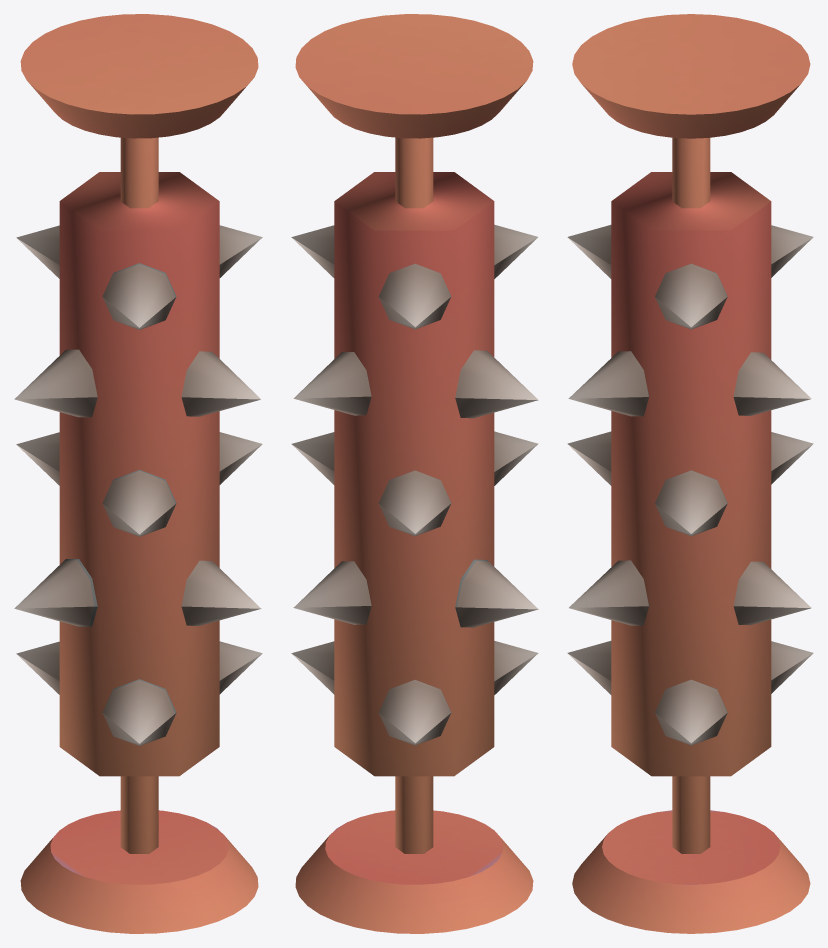
The model's file is spikyLog.fbx.
The picture shows the model from 3 angles, left to right: view 1: azimuth 30°, elevation 25°; view 2: azimuth 150°, elevation 25°; view 3: azimuth 270°, elevation 25°; orthographic projection.
Parts seen in each view (by area): view 1: Log, Cylinder, Cylinder.001, Roller; view 2: Log, Cylinder, Cylinder.001, Roller; view 3: Log, Cylinder, Cylinder.001, Roller.
Part boxes in pixels (box(x1,y1,x2,y2)): Log: box(14, 172, 262, 776); Cylinder: box(20, 14, 258, 138); Cylinder.001: box(20, 810, 258, 933); Roller: box(120, 137, 158, 853); Log: box(291, 172, 538, 776); Cylinder: box(295, 14, 533, 138); Cylinder.001: box(295, 810, 533, 933); Roller: box(395, 137, 433, 853); Log: box(567, 172, 813, 776); Cylinder: box(572, 14, 810, 138); Cylinder.001: box(572, 810, 810, 933); Roller: box(672, 137, 710, 853).
Size of the model in its own units: 162 by 511 by 140.
